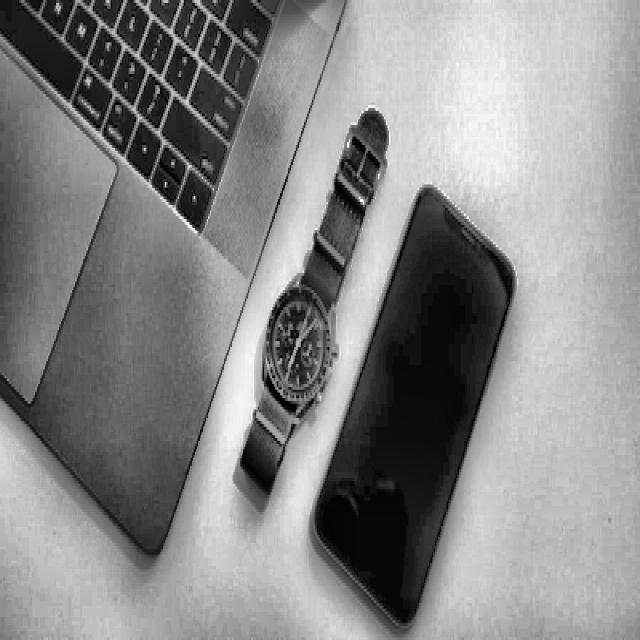Phone: (310, 184, 516, 632)
